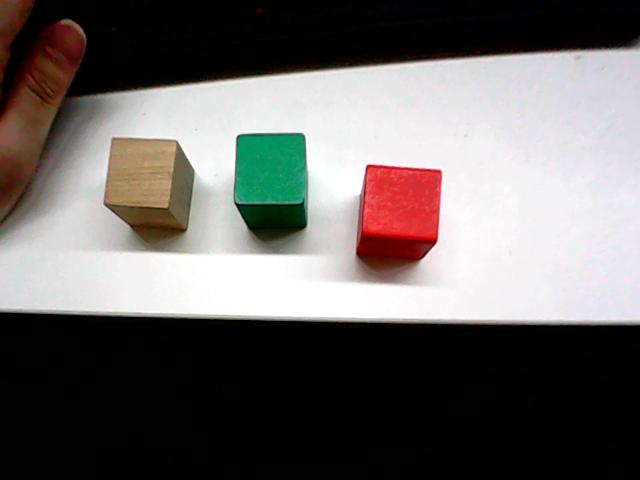green_box: (231, 129, 311, 233)
raw_box: (101, 132, 197, 235)
red_box: (353, 159, 445, 265)
